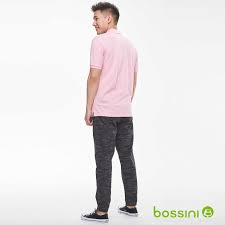S_polo shirt: (87, 28, 141, 117)
